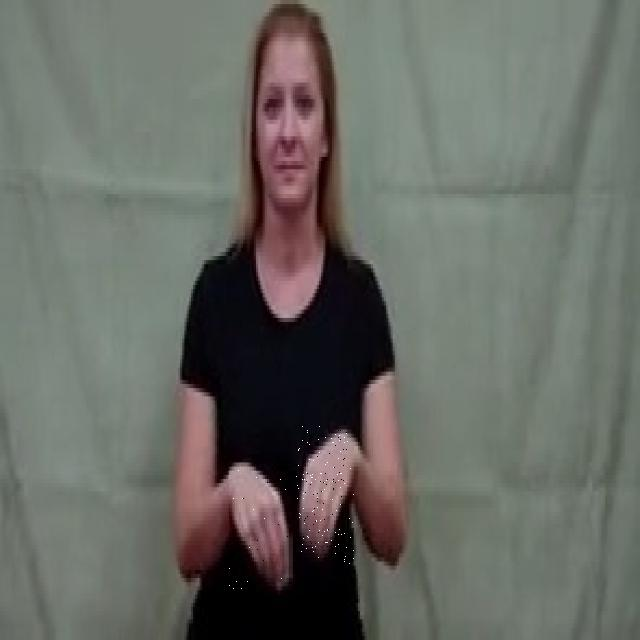ingredients: (230, 461, 292, 598), (296, 426, 354, 566)
